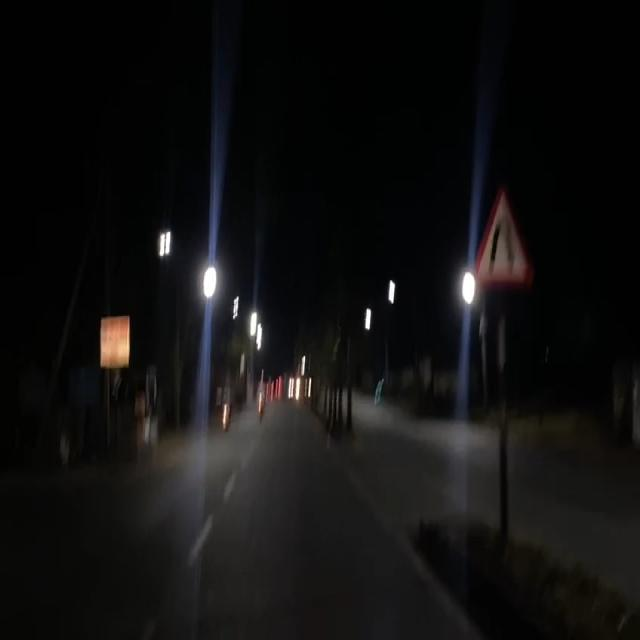bien_cam: (471, 187, 535, 292)
